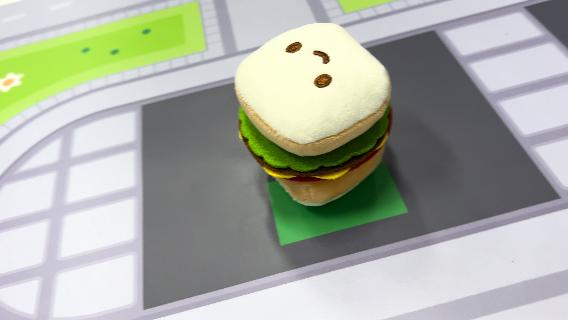sandwich: (232, 21, 397, 208)
